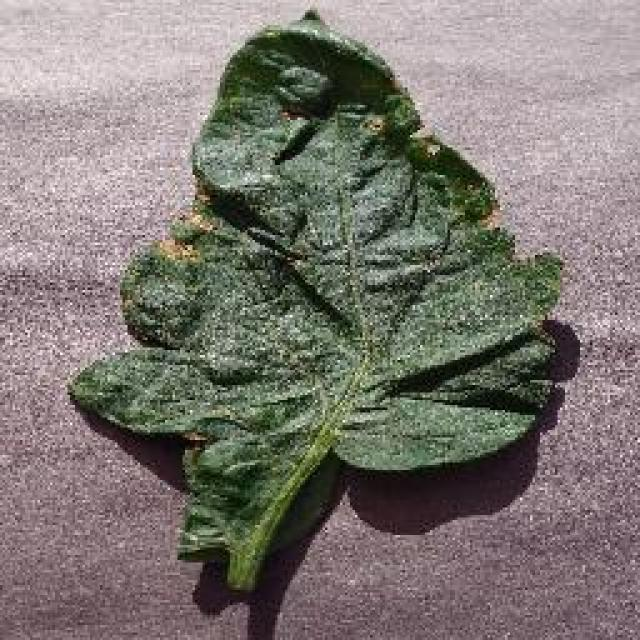Tomato___Target_Spot: (70, 10, 558, 590)
